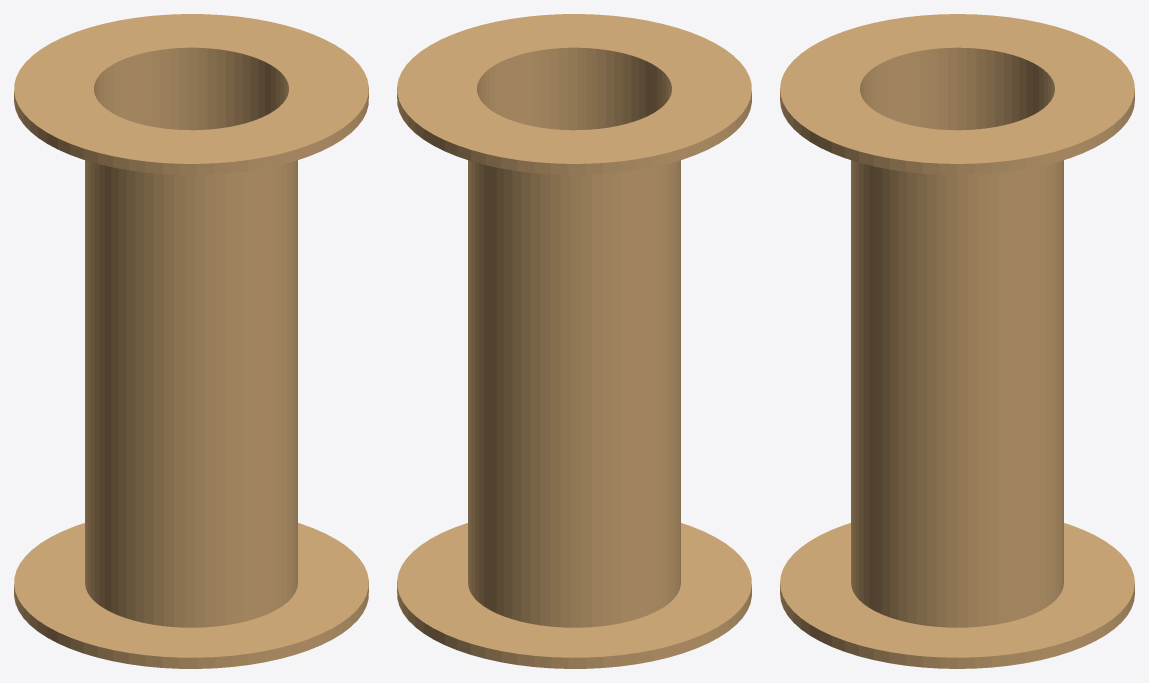
Rendered from board.glb.
3 views of the same model, side by side, from view 1: azimuth 30°, elevation 25°; view 2: azimuth 150°, elevation 25°; view 3: azimuth 270°, elevation 25° (orthographic).
Parts seen in each view (by area): view 1: Bare_Via_Tube_0, Unified_Net_1_Island_0 (×2); view 2: Bare_Via_Tube_0, Unified_Net_1_Island_0 (×2); view 3: Bare_Via_Tube_0, Unified_Net_1_Island_0 (×2).
Part boxes in pixels (box(x1,y1,x2,y2)): Bare_Via_Tube_0: box(85, 50, 297, 627); Unified_Net_1_Island_0 (×2): box(14, 14, 368, 668); Bare_Via_Tube_0: box(468, 50, 680, 627); Unified_Net_1_Island_0 (×2): box(397, 14, 751, 668); Bare_Via_Tube_0: box(851, 48, 1063, 627); Unified_Net_1_Island_0 (×2): box(780, 14, 1134, 668).
Size of the model in its own units: 0.001 by 0.00157 by 0.001.
